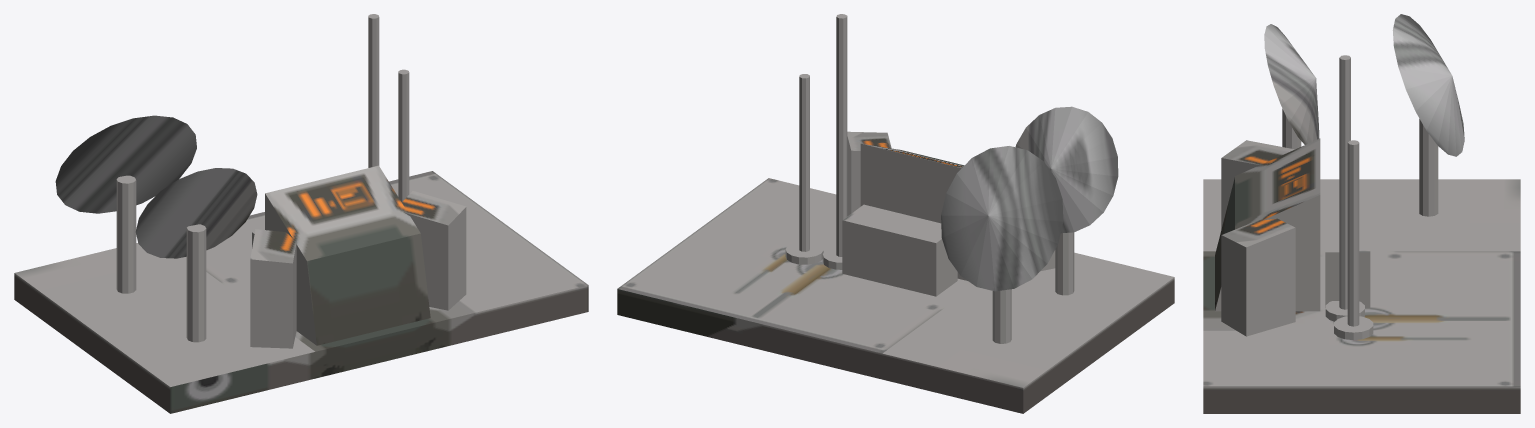
The model's file is Building_AncientCommsConsole.obj.
3 views of the same model, side by side, from view 1: azimuth 30°, elevation 25°; view 2: azimuth 150°, elevation 25°; view 3: azimuth 270°, elevation 25° (orthographic). The views are drawn at different scales.
Parts seen in each view (by area): view 1: Body; view 2: Body; view 3: Body.
Boxes of the visible parts, x1=… form: Body: x1=14, y1=14, x2=588, y2=413; Body: x1=617, y1=14, x2=1174, y2=413; Body: x1=1203, y1=14, x2=1520, y2=413.
Bounding box in the file's own units: 2.94 × 1.88 × 1.9.
Materials: 1 (1 with a texture image).
